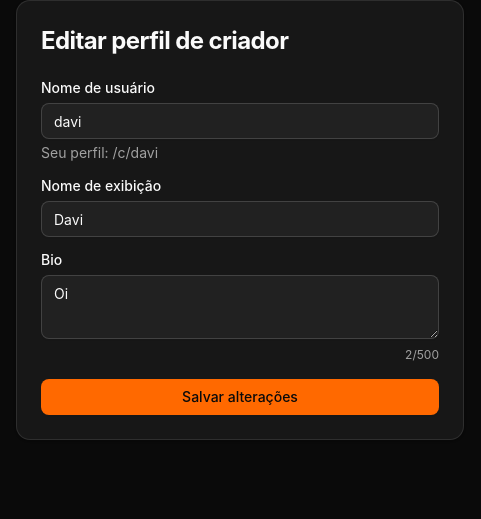
Scenario: EditCreatorProfilePage › pre-fills, saves with PUT and shows the success message
Expected: the field labelled "Nome de usuário" holds "davi", x1=41 y1=103 x2=439 y2=139
Expected: the text box labelled "Bio" holds "Oi", x1=41 y1=275 x2=439 y2=339
Replace the text in the field labelled "Nome de exibição" with "Davi Lima" at (240, 219), box x1=41 y1=201 x2=439 y2=237
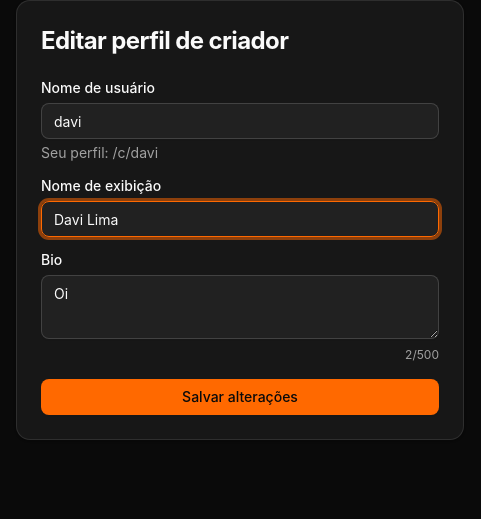
Click the button "Salvar alterações" at (240, 397), box x1=41 y1=379 x2=439 y2=415
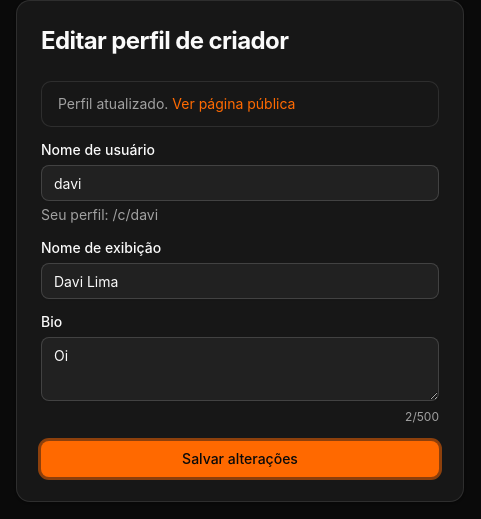
Now the text "Perfil atualizado. Ver página pública" is shown, box x1=58 y1=94 x2=296 y2=114
